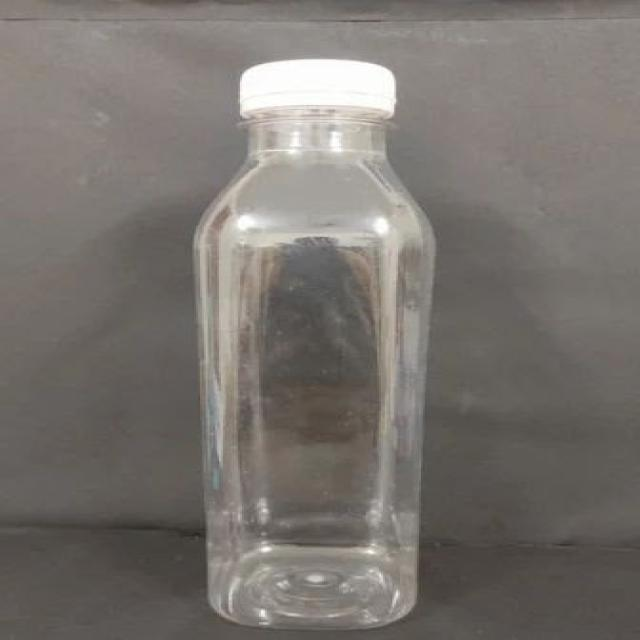bottom: (200, 542, 425, 633)
neck: (192, 57, 441, 249)
